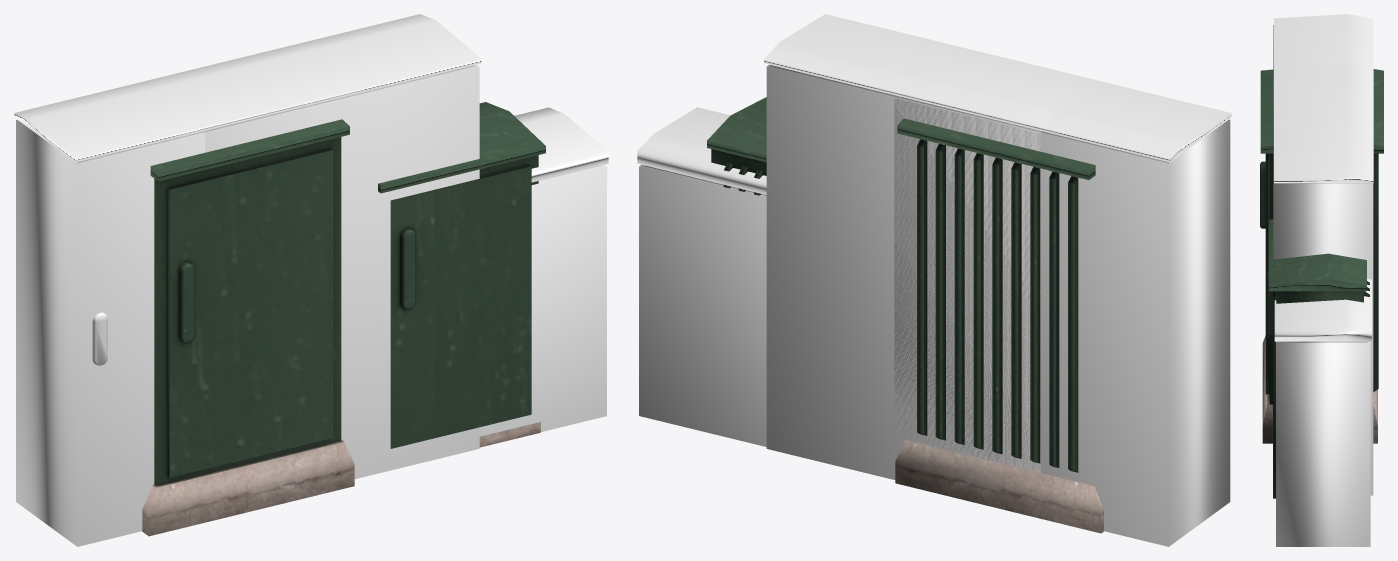
File: junction_boxes.fbx
3 views of the same model, side by side, from view 1: azimuth 30°, elevation 25°; view 2: azimuth 150°, elevation 25°; view 3: azimuth 270°, elevation 25° (orthographic). The views are drawn at different scales.
Visible parts, largest first — view 1: junction_box_02, Mesh, junction_box_03; view 2: Mesh, junction_box_03, junction_box_02; view 3: Mesh, junction_box_03, junction_box_02.
Boxes of the visible parts, <box> form: junction_box_02: <box>142,102,545,536</box>; Mesh: <box>14,51,608,546</box>; junction_box_03: <box>142,14,481,478</box>; Mesh: <box>637,45,1231,546</box>; junction_box_03: <box>764,14,1102,479</box>; junction_box_02: <box>707,97,1103,533</box>; Mesh: <box>1273,14,1373,546</box>; junction_box_03: <box>1273,64,1373,495</box>; junction_box_02: <box>1260,69,1383,498</box>.
Size of the model in its own units: 210 by 148 by 51.79.
